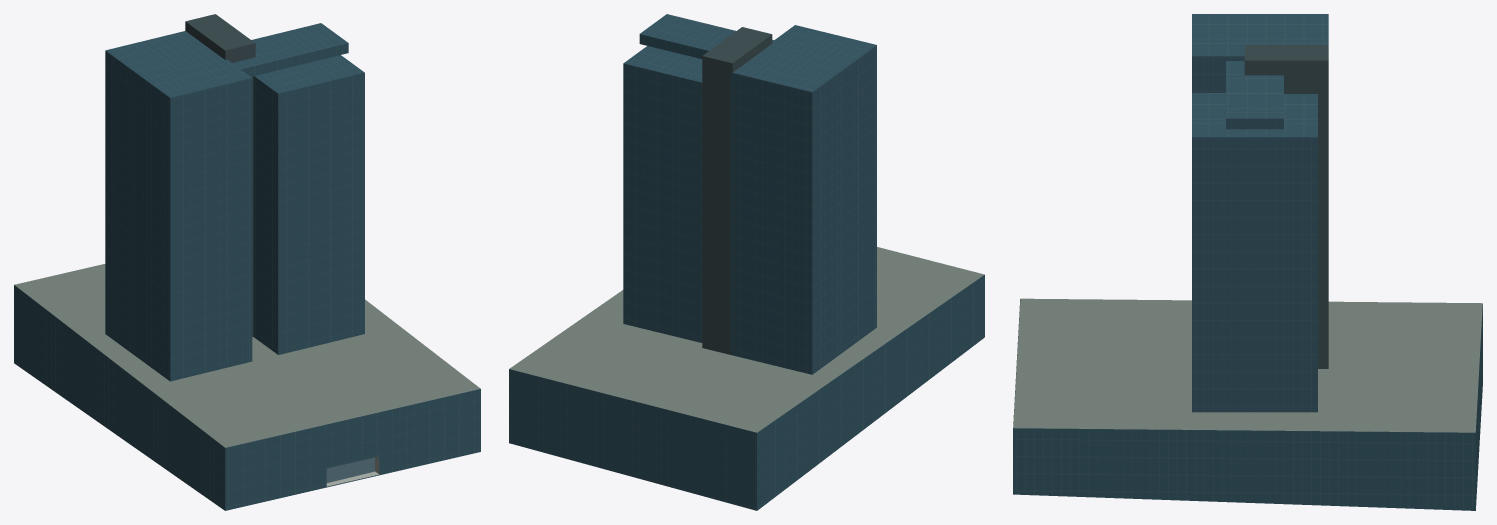
The model's file is intact.glb.
3 views of the same model, side by side, from view 1: azimuth 30°, elevation 25°; view 2: azimuth 150°, elevation 25°; view 3: azimuth 270°, elevation 25° (orthographic). The views are drawn at different scales.
Visible parts, largest first — view 1: Practice_Intact; view 2: Practice_Intact; view 3: Practice_Intact.
Boxes of the visible parts, left/top/right/bottom form: Practice_Intact: left=14, top=14, right=480, bottom=510; Practice_Intact: left=509, top=14, right=984, bottom=510; Practice_Intact: left=1013, top=14, right=1482, bottom=510.
Bounding box in the file's own units: 1.89 × 2.57 × 2.8.
Materials: 5 (1 with a texture image).
